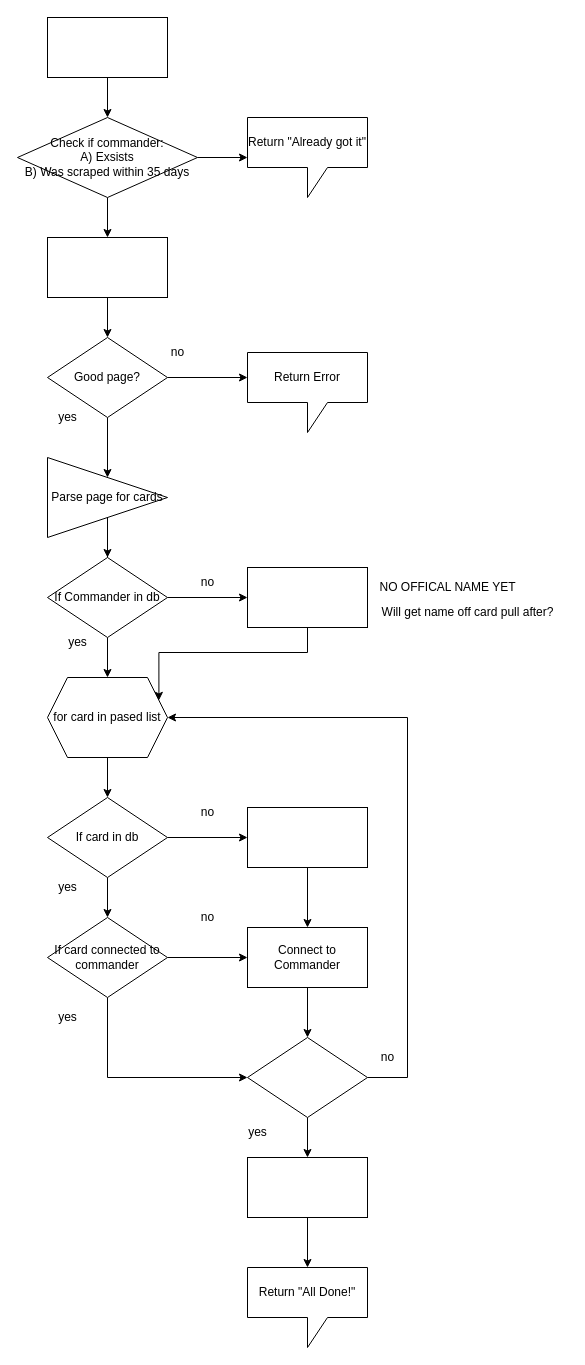
Some shapes in this 585 by 1365 pixel diagram are drawn without their labels. The box of each missing label's shape, as (x1, y1, x2, y2) in pixels:
_clean_search_input: (46, 16, 168, 78)
Insert Card: (246, 806, 368, 868)
Insert Commander: (246, 566, 368, 628)
Insert commander_name from Card where search_name ==: (246, 1156, 368, 1218)
loop end?: (246, 1036, 368, 1118)
parseEDHrec: (46, 236, 168, 298)
